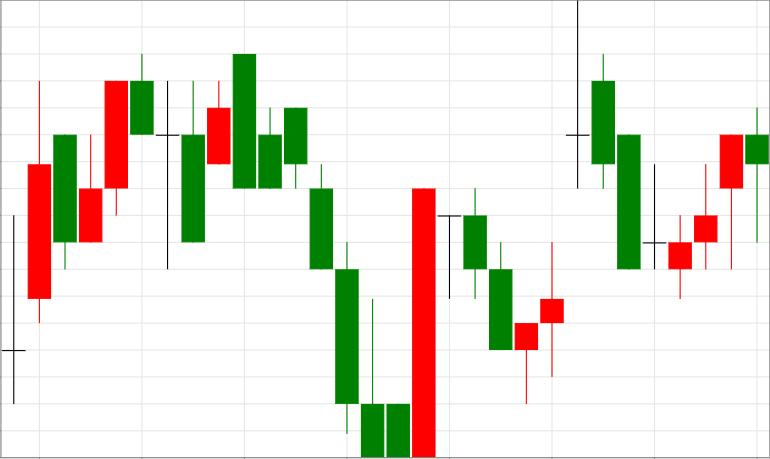bullish_engulfing_rise: (234, 53, 436, 458)
